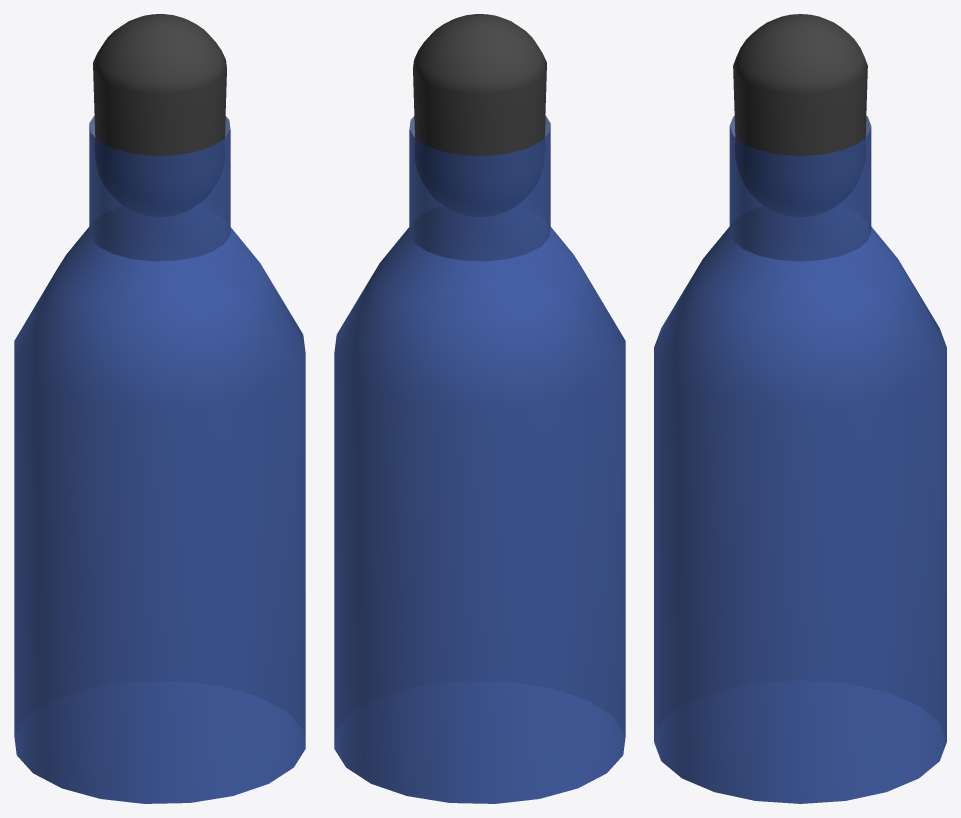
The model's file is bottle export.fbx.
The picture shows the model from 3 angles, left to right: view 1: azimuth 30°, elevation 25°; view 2: azimuth 150°, elevation 25°; view 3: azimuth 270°, elevation 25°; orthographic projection.
Parts seen in each view (by area): view 1: pSphere2; view 2: pSphere2; view 3: pSphere2.
Part boxes in pixels (box(x1,y1,x2,y2)): pSphere2: box(14, 14, 305, 803); pSphere2: box(334, 14, 625, 803); pSphere2: box(654, 14, 946, 803).
Bounding box in the file's own units: 4.13 × 11.23 × 4.13.
